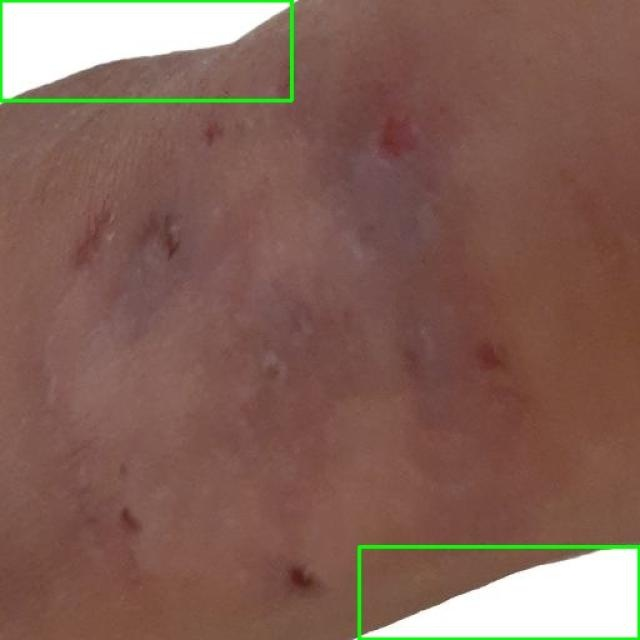Tinea Corporis: (0, 0, 291, 100), (359, 546, 639, 639)
